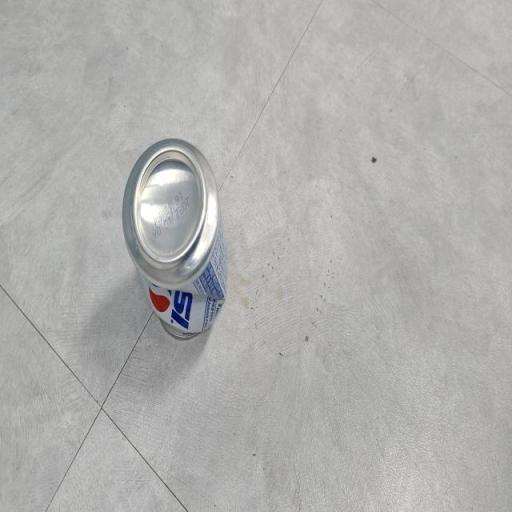metal: (115, 127, 242, 359)
